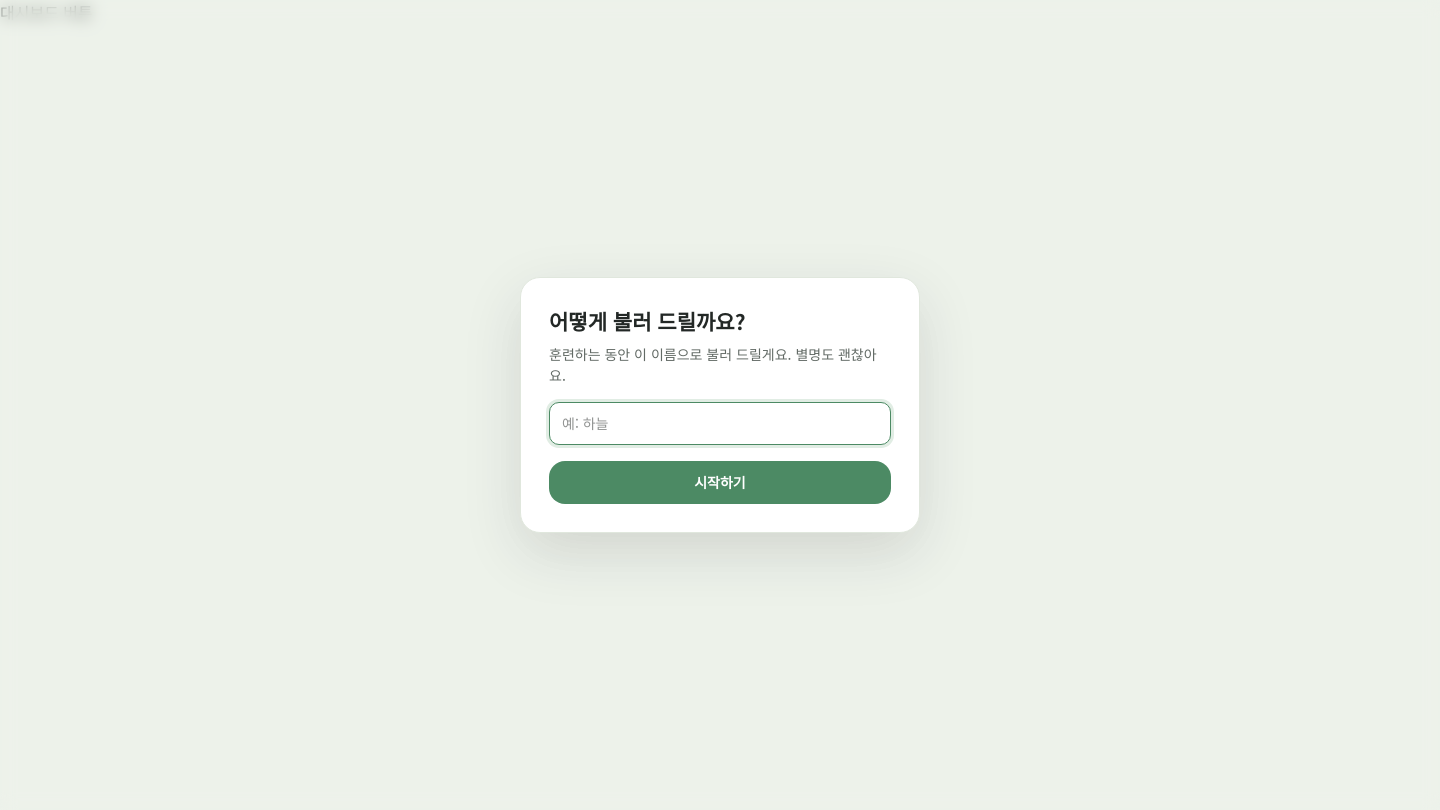
Scenario: NicknameGate — 무료로 시작한 게스트에게 불러 줄 이름 묻기 › 입력한 이름(앞뒤 공백 제거)을 서버에 저장하고 창을 닫는다 — 새로 열어도 다시 묻지 않는다
Type "  하늘 " into the field named "불러 드릴 이름" at (720, 423), box [549, 402, 891, 445]
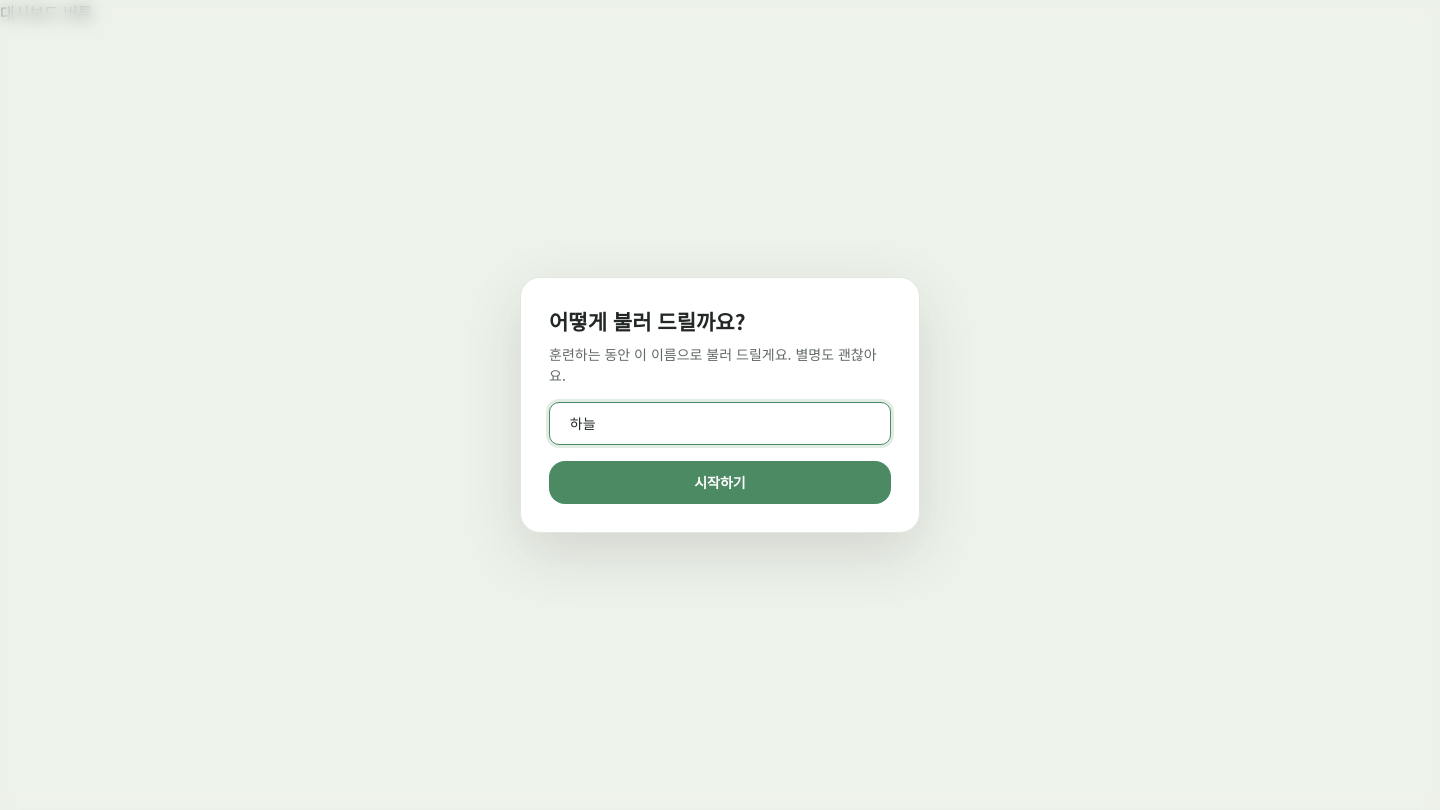
Click the button "시작하기" at (720, 482), box [549, 461, 891, 504]
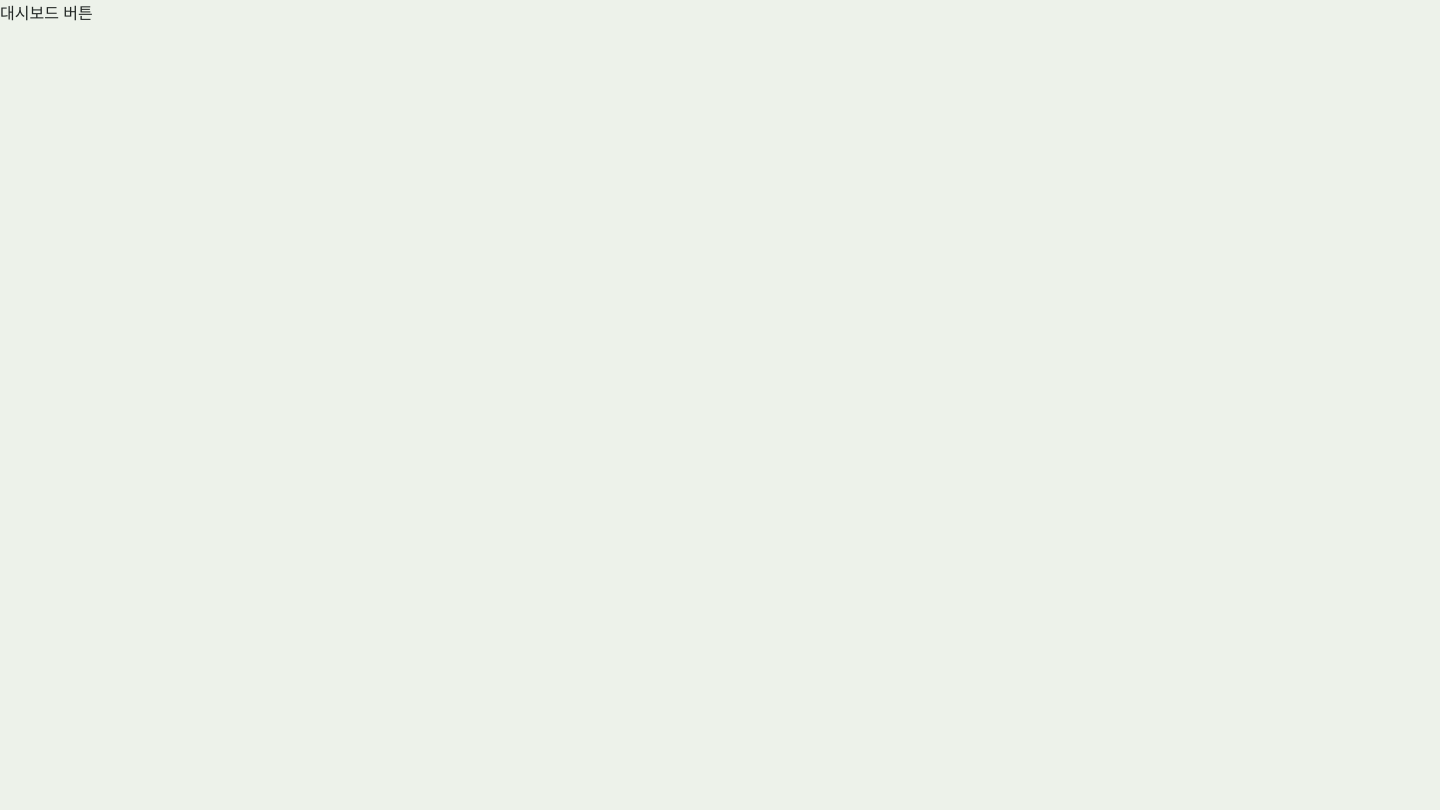
Result: the dialog is gone
